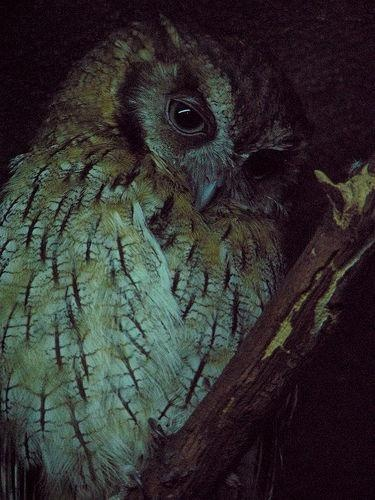bird: (3, 9, 314, 496)
